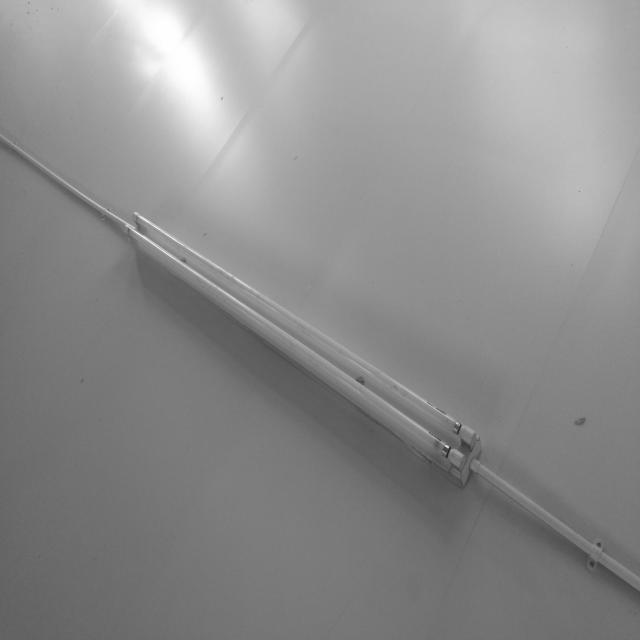light: (122, 209, 480, 484)
